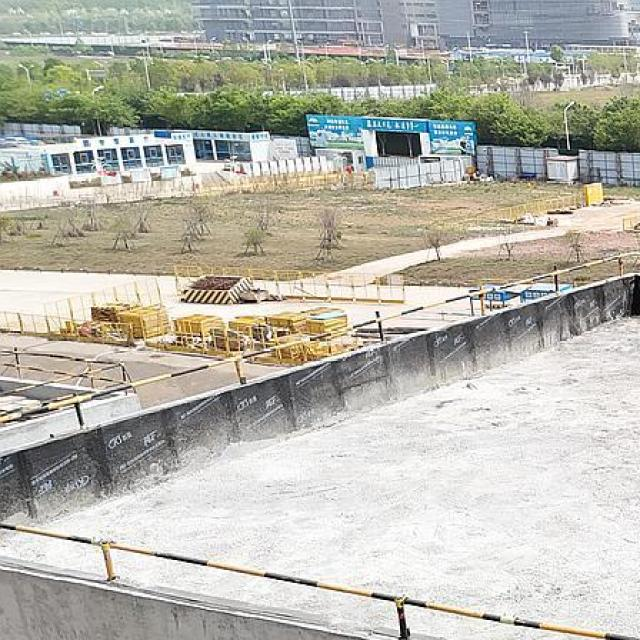edge_guardrail: (0, 246, 640, 428), (0, 521, 640, 640), (0, 349, 127, 415)
